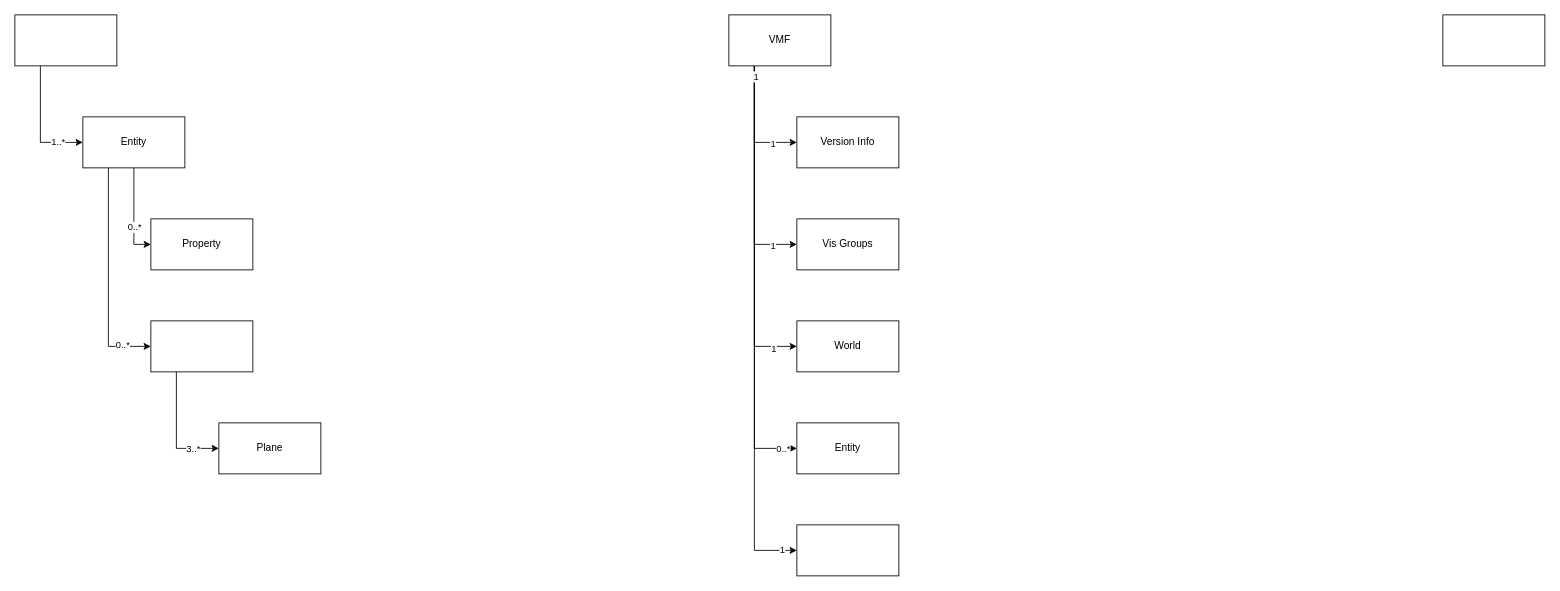
The diagram is 1560 pixels wide and 591 high, and some of its shapes have lost their labels. The shapes that lost their labels are listed below. From the top down, each one's centre as x and y in pixels, then its label:
(65,40): Map
(1493,40): BSP
(201,346): Brush
(847,550): Hidden
